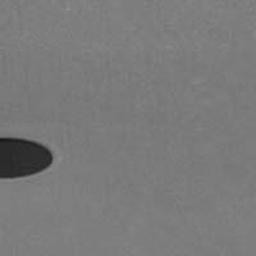Punching: (0, 137, 53, 178)
